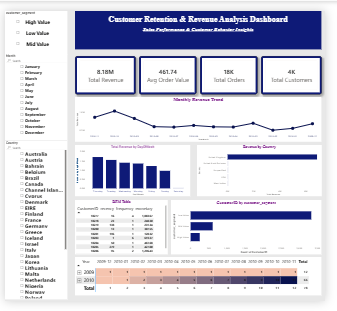

The dashboard page shown, as its layout file describes it:
{"tool":"powerbi","page":{"name":"final dashboard","canvas":[1600,1450],"ordinal":3},"visuals":[{"type":"cardVisual","fields":{"Data":["Facts_Sales.Total Revenue"]},"box":[352,224,304,192],"z":0},{"type":"cardVisual","fields":{"Data":["Facts_Sales.Avg Order Value"]},"box":[672,224,288,192],"z":1000},{"type":"cardVisual","fields":{"Data":["Facts_Sales.Total Orders"]},"box":[976,224,288,192],"z":2000},{"type":"cardVisual","fields":{"Data":["Facts_Sales.Total Customers"]},"box":[1280,224,304,192],"z":3000},{"type":"lineChart","title":"Monthly Revenue Trend","fields":{"Y":["Facts_Sales.Total Revenue"],"Category":["Facts_Sales.YearMonth"]},"box":[352,432,1232,224],"z":4000},{"type":"clusteredColumnChart","fields":{"Category":["Facts_Sales.DayOfWeek"],"Y":["Facts_Sales.Total Revenue"]},"box":[352,672,576,256],"z":5000},{"type":"clusteredBarChart","title":" Revenue by Country","fields":{"Category":["Facts_Sales.Country"],"Y":["Facts_Sales.Total Revenue"]},"box":[960,672,624,256],"z":6000},{"type":"tableEx","title":"RFM Table","fields":{"Values":["RFM.CustomerID","RFM.recency","RFM.frequency","RFM.monetary"]},"box":[352,944,464,272],"z":7000},{"type":"clusteredBarChart","title":" CustomerID by customer_segment","fields":{"Y":["CountNonNull(RFM.CustomerID)"],"Category":["RFM.customer_segment"]},"box":[832,944,752,272],"z":8000},{"type":"pivotTable","fields":{"Rows":["cohort_view.cohort_month.Variation.Date Hierarchy.Year","cohort_view.cohort_month.Variation.Date Hierarchy.Quarter","cohort_view.cohort_month.Variation.Date Hierarchy.Month","cohort_view.cohort_month.Variation.Date Hierarchy.Day"],"Columns":["cohort_view.YearMonth"],"Values":["CountNonNull(cohort_view.customers)"]},"box":[352,1232,1232,192],"z":9000},{"type":"listSlicer","fields":{"Values":["RFM.customer_segment"]},"box":[0,0,312,216],"z":10000},{"type":"listSlicer","fields":{"Values":["cohort_view.cohort_month.Variation.Date Hierarchy.Month"]},"box":[0,216,312,432],"z":11000},{"type":"listSlicer","fields":{"Values":["Facts_Sales.Country"]},"box":[0,648,312,792],"z":12000},{"type":"textbox","title":"Customer Retention & Revenue Analysis Dashboard","box":[352,0,1232,192],"z":13000}]}

Visuals, with their boxes on the page's 1600x1450 design canvas (x1, y1, x2, y2). These are canvas units, not pixel positions in the 337x311 screenshot, which may show the page scaled, cropped or inside an application window:
cardVisual - Facts_Sales.Total Revenue: (x1=352, y1=224, x2=656, y2=416)
cardVisual - Facts_Sales.Avg Order Value: (x1=672, y1=224, x2=960, y2=416)
cardVisual - Facts_Sales.Total Orders: (x1=976, y1=224, x2=1264, y2=416)
cardVisual - Facts_Sales.Total Customers: (x1=1280, y1=224, x2=1584, y2=416)
"Monthly Revenue Trend" lineChart: (x1=352, y1=432, x2=1584, y2=656)
clusteredColumnChart - Facts_Sales.DayOfWeek x Facts_Sales.Total Revenue: (x1=352, y1=672, x2=928, y2=928)
" Revenue by Country" clusteredBarChart: (x1=960, y1=672, x2=1584, y2=928)
"RFM Table" tableEx: (x1=352, y1=944, x2=816, y2=1216)
" CustomerID by customer_segment" clusteredBarChart: (x1=832, y1=944, x2=1584, y2=1216)
pivotTable - cohort_view.cohort_month.Variation.Date Hierarchy.Year x cohort_view.cohort_month.Variation.Date Hierarchy.Quarter: (x1=352, y1=1232, x2=1584, y2=1424)
listSlicer - RFM.customer_segment: (x1=0, y1=0, x2=312, y2=216)
listSlicer - cohort_view.cohort_month.Variation.Date Hierarchy.Month: (x1=0, y1=216, x2=312, y2=648)
listSlicer - Facts_Sales.Country: (x1=0, y1=648, x2=312, y2=1440)
"Customer Retention & Revenue Analysis Dashboard" textbox: (x1=352, y1=0, x2=1584, y2=192)
